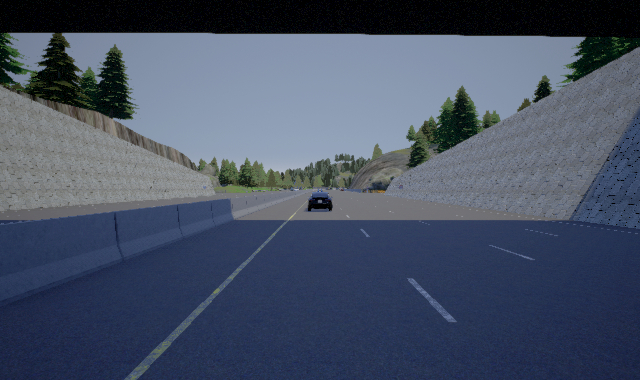vehicle: (306, 192, 333, 211)
